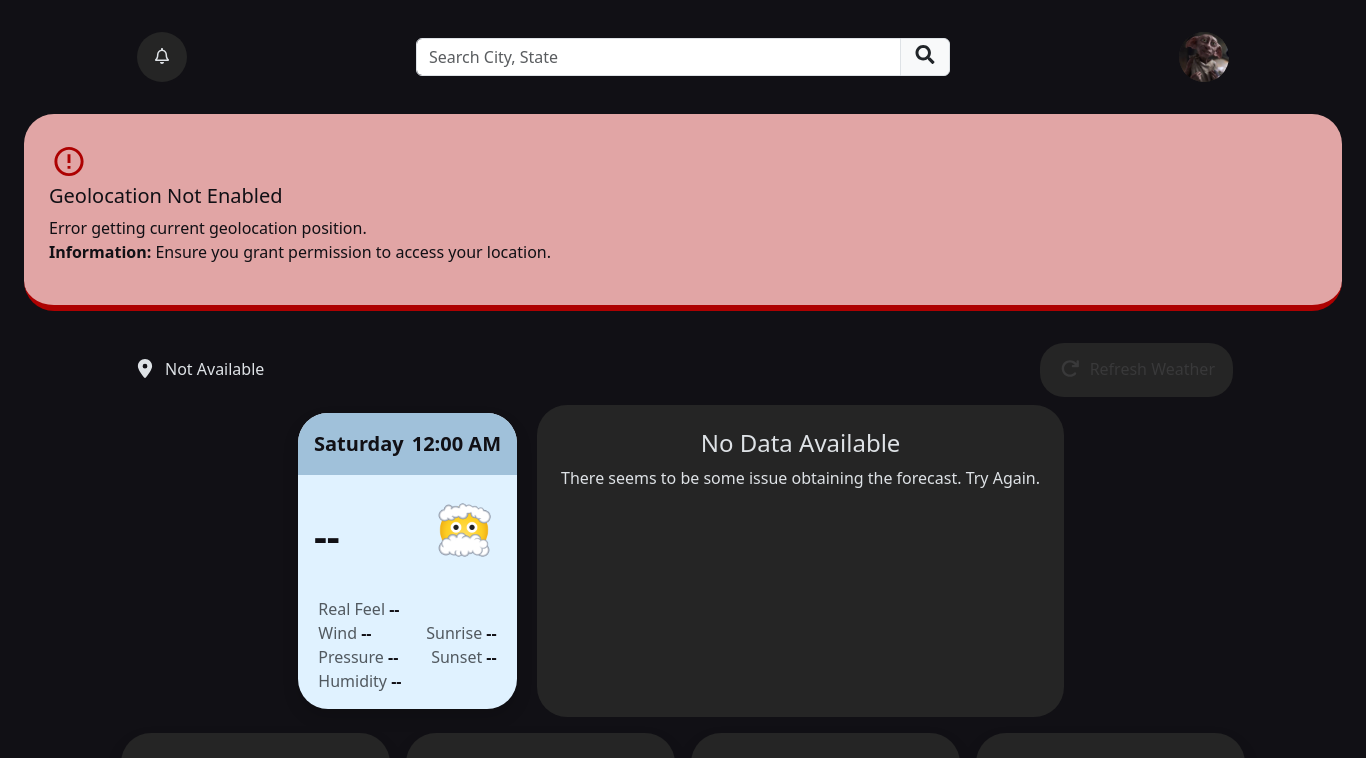
Scenario: src/component/App › loads location data based on search › handles error when searching for a location › sets error if api fails to get geolocation
This screenshot has width=1366, height=758.
Expected: the text "Ensure you grant permission to access your location." is shown, x1=156 y1=241 x2=551 y2=263
In the search field labelled "Search City, State": [658, 57] box x1=416 y1=38 x2=901 y2=76, type "Columbia, MD"
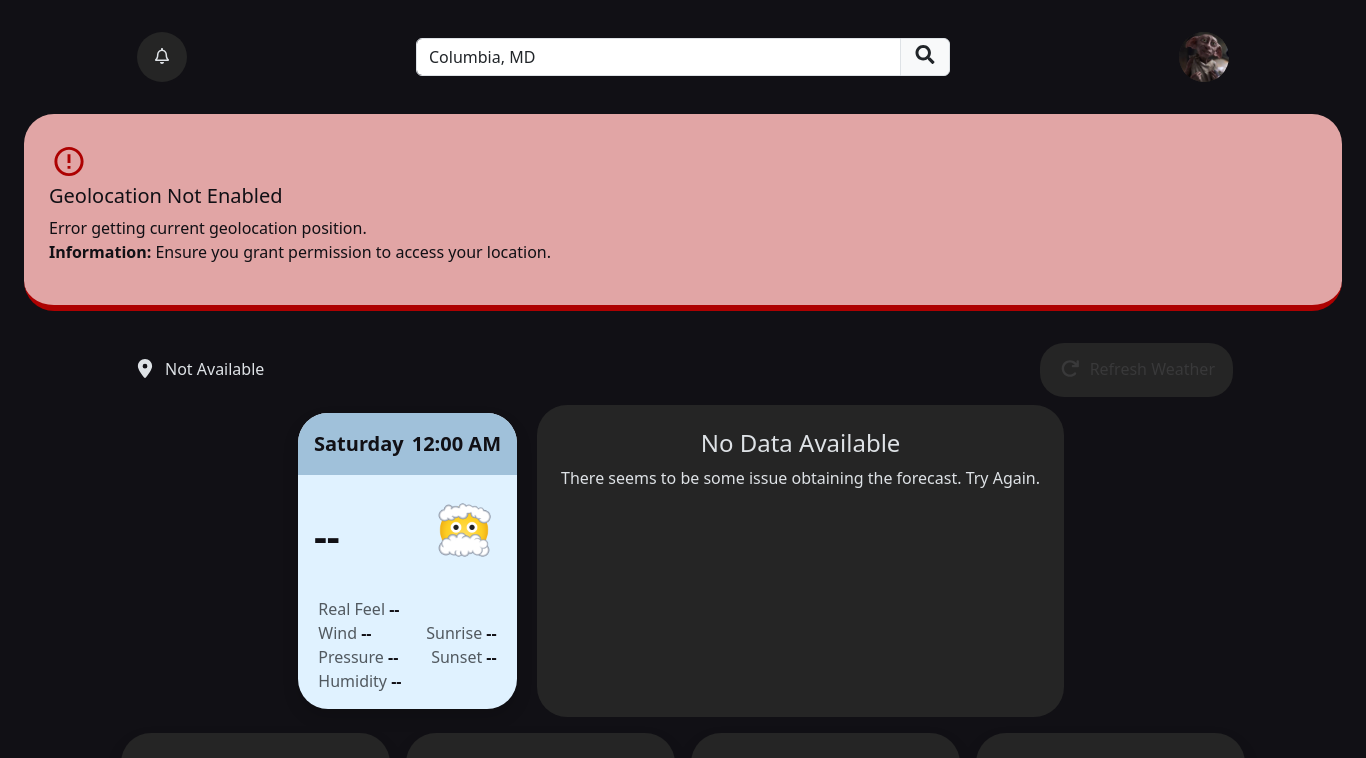
Hover over the button "Refresh Weather": [1136, 370] box x1=1040 y1=343 x2=1233 y2=397
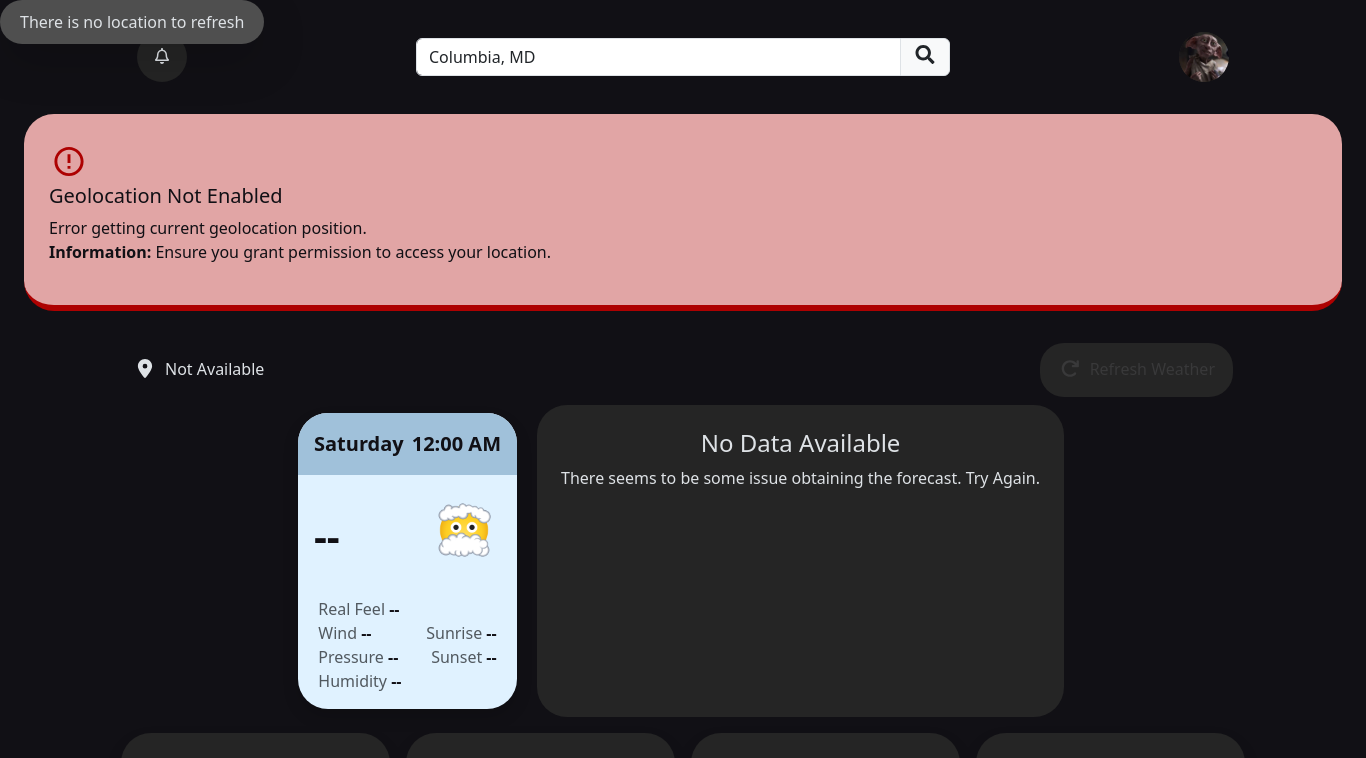
Now the tooltip "There is no location to refresh" is shown, box x1=0 y1=0 x2=264 y2=44
Move the pointer off the button "Refresh Weather", box x1=1040 y1=343 x2=1233 y2=397
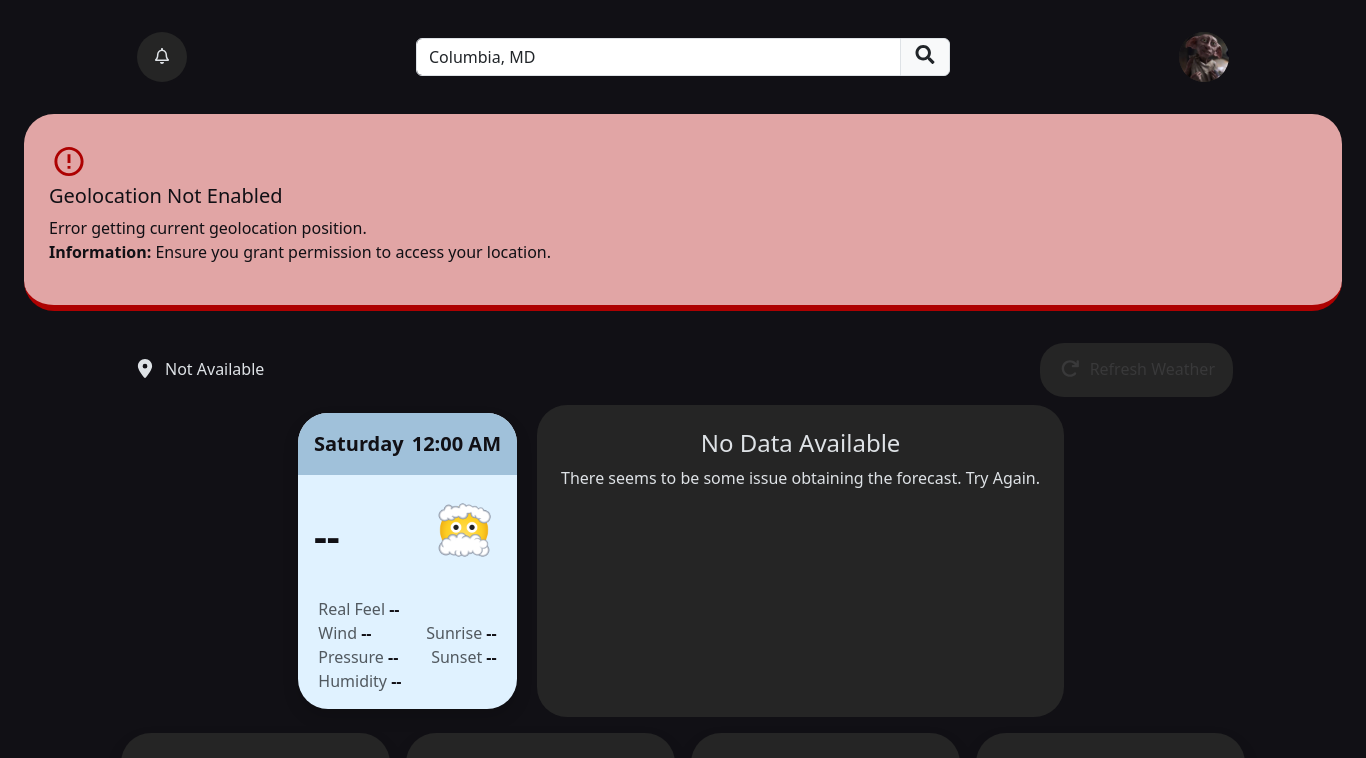
Now the tooltip "There is no location to refresh" is gone
Press Enter in the search field named "Search City, State", box x1=416 y1=38 x2=901 y2=76
Wait 20000 ms
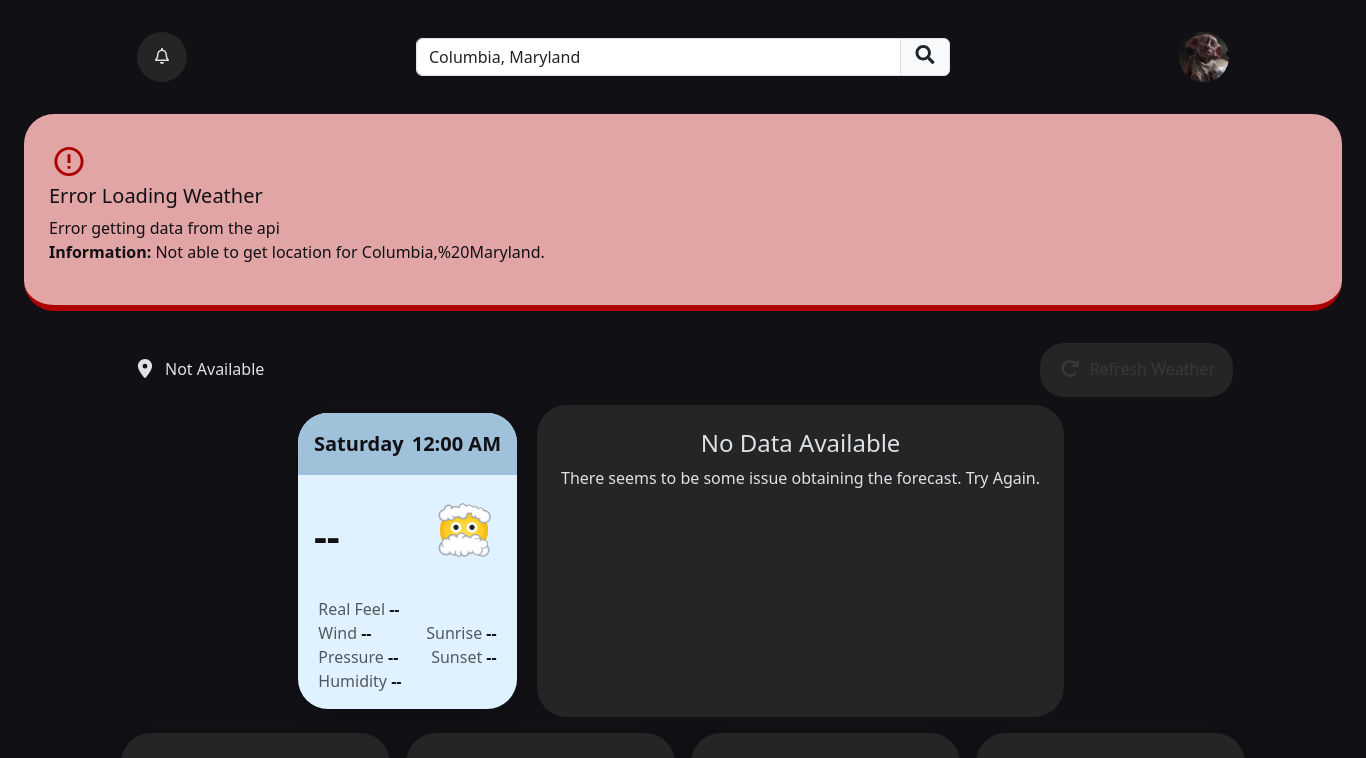
Now the text "Not able to get location" is shown, box x1=156 y1=241 x2=545 y2=263
Now the text "Error getting data from the api" is shown, box x1=49 y1=217 x2=280 y2=239
